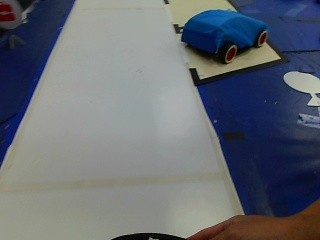car: (173, 4, 274, 67)
